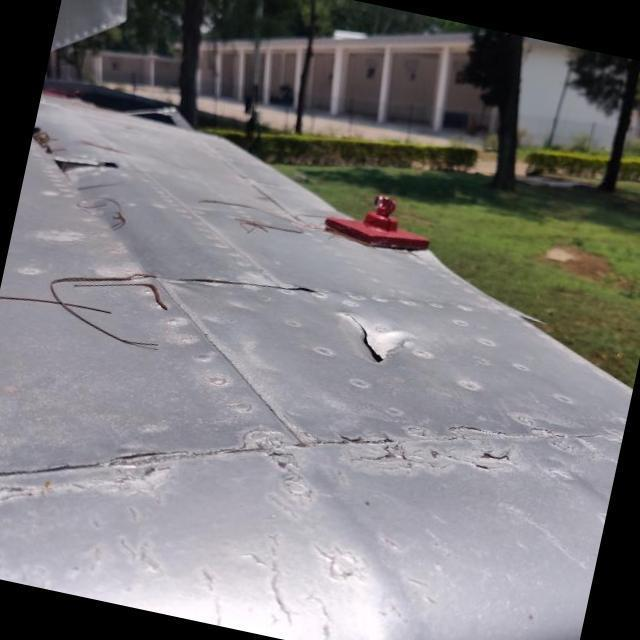Rupture: (322, 301, 424, 378)
